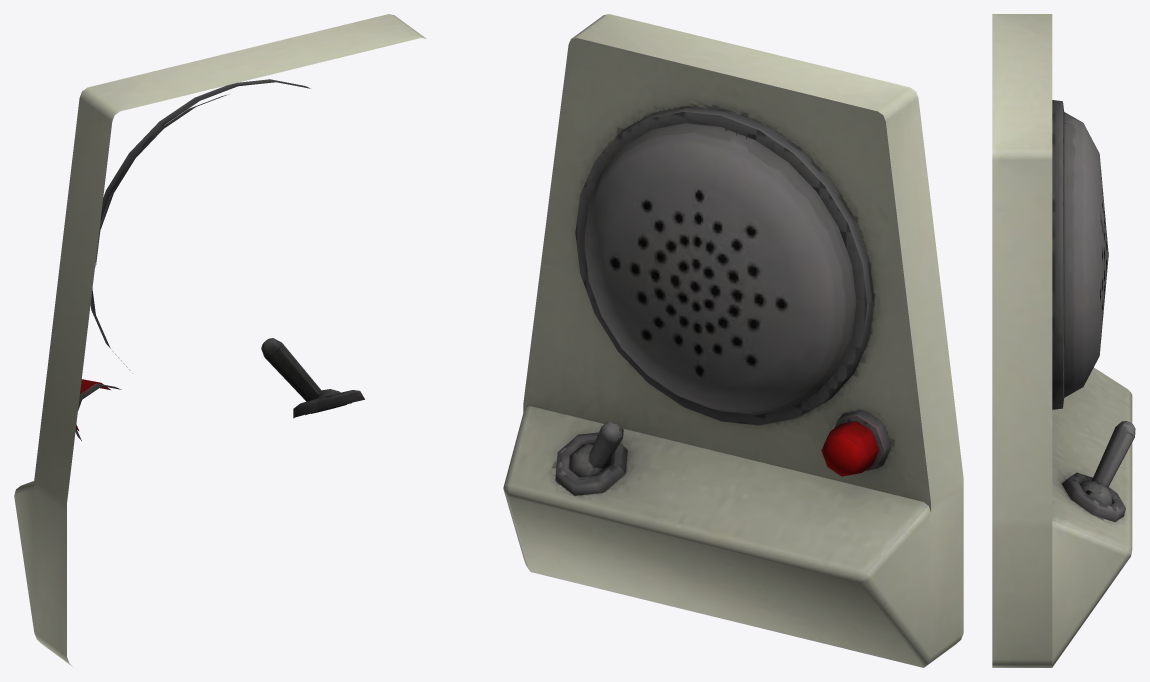
3 views of the same model, side by side, from view 1: azimuth 30°, elevation 25°; view 2: azimuth 150°, elevation 25°; view 3: azimuth 270°, elevation 25° (orthographic). The views are drawn at different scales.
Parts seen in each view (by area): view 1: body0_model0_lod0_mesh0; view 2: body0_model0_lod0_mesh0; view 3: body0_model0_lod0_mesh0.
Boxes of the visible parts, x1,y1,x2,y2 form: body0_model0_lod0_mesh0: (14, 14, 426, 666); body0_model0_lod0_mesh0: (503, 14, 963, 667); body0_model0_lod0_mesh0: (992, 14, 1135, 667).
Bounding box in the file's own units: 18 × 23 × 5.98.
1 material, 1 textured.
